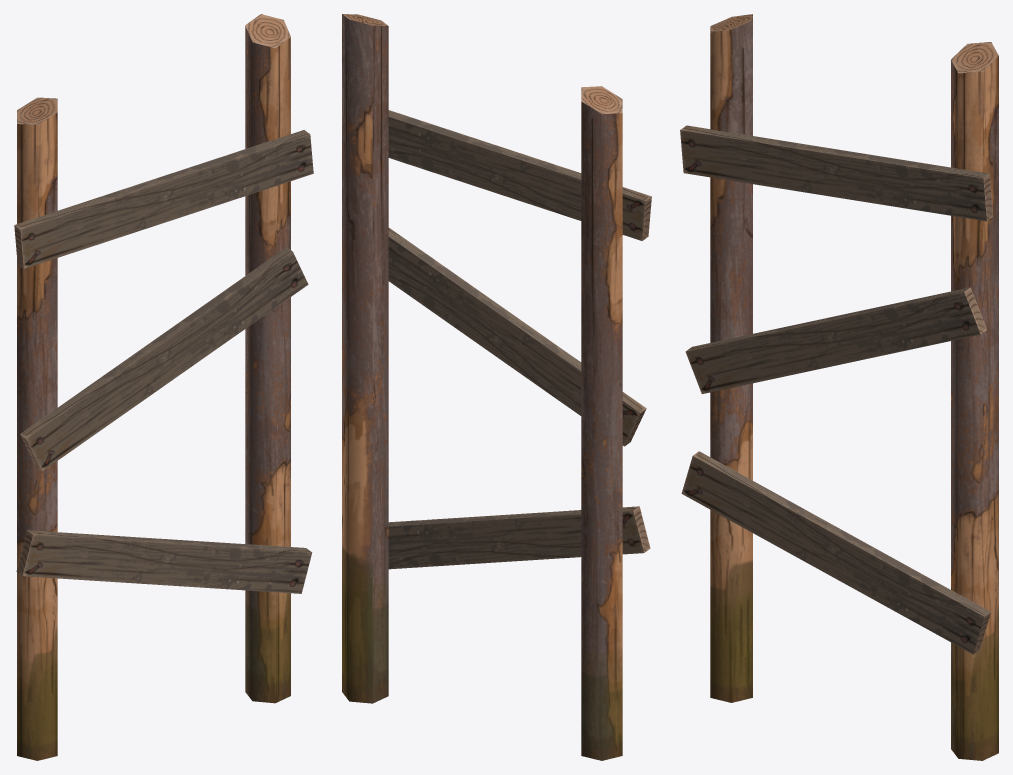
File: fenceWalk_legs.fbx
3 views of the same model, side by side, from view 1: azimuth 30°, elevation 25°; view 2: azimuth 150°, elevation 25°; view 3: azimuth 330°, elevation 25° (orthographic). The views are drawn at different scales.
Visible parts, largest first — view 1: fenceWalk_legs; view 2: fenceWalk_legs; view 3: fenceWalk_legs.
Part boxes in pixels (x1,y1,x2,y2): fenceWalk_legs: (14, 14, 313, 760); fenceWalk_legs: (342, 14, 651, 760); fenceWalk_legs: (680, 14, 998, 760).
Bounding box in the file's own units: 173 × 378 × 29.55.
